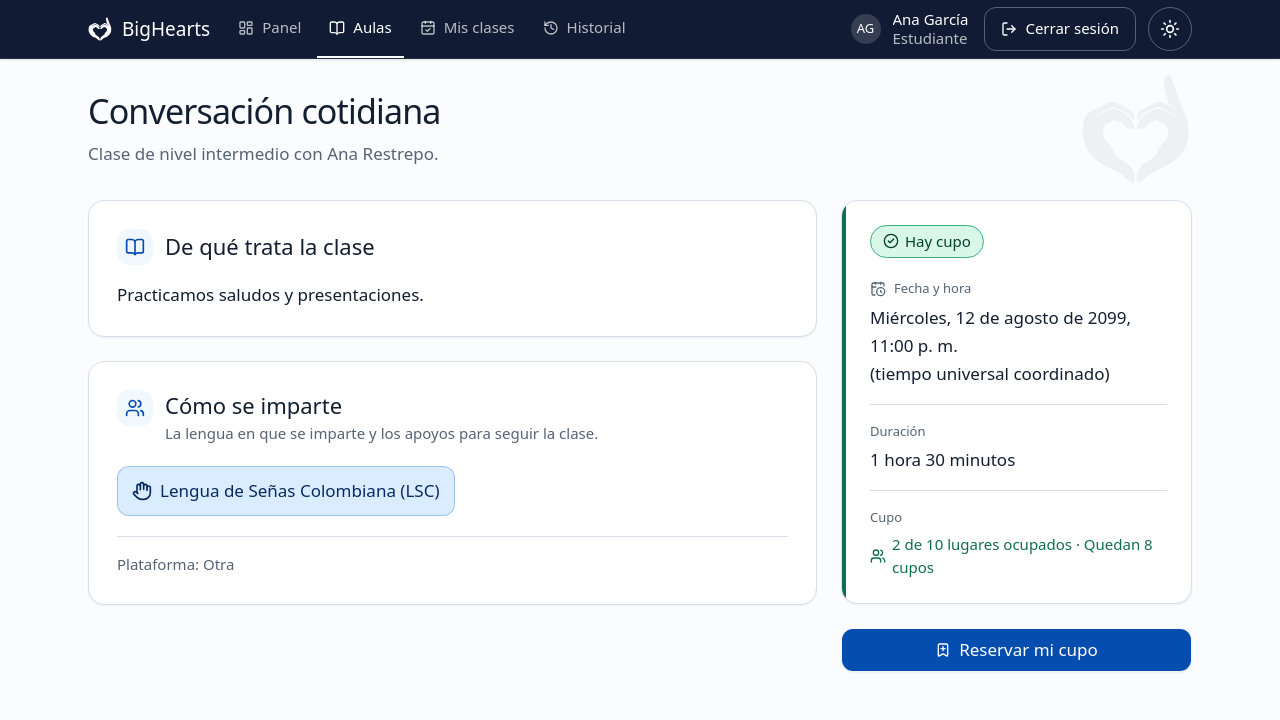
it: AulaDetallePage — reservar un cupo (HU-301) › al confirmar, re-consulta el aula y el estado pasa a reservada
This screenshot has width=1280, height=720.
Step 1. Click the button "Reservar mi cupo" → (1016, 650), box top-left (841, 628), bottom-right (1192, 672)
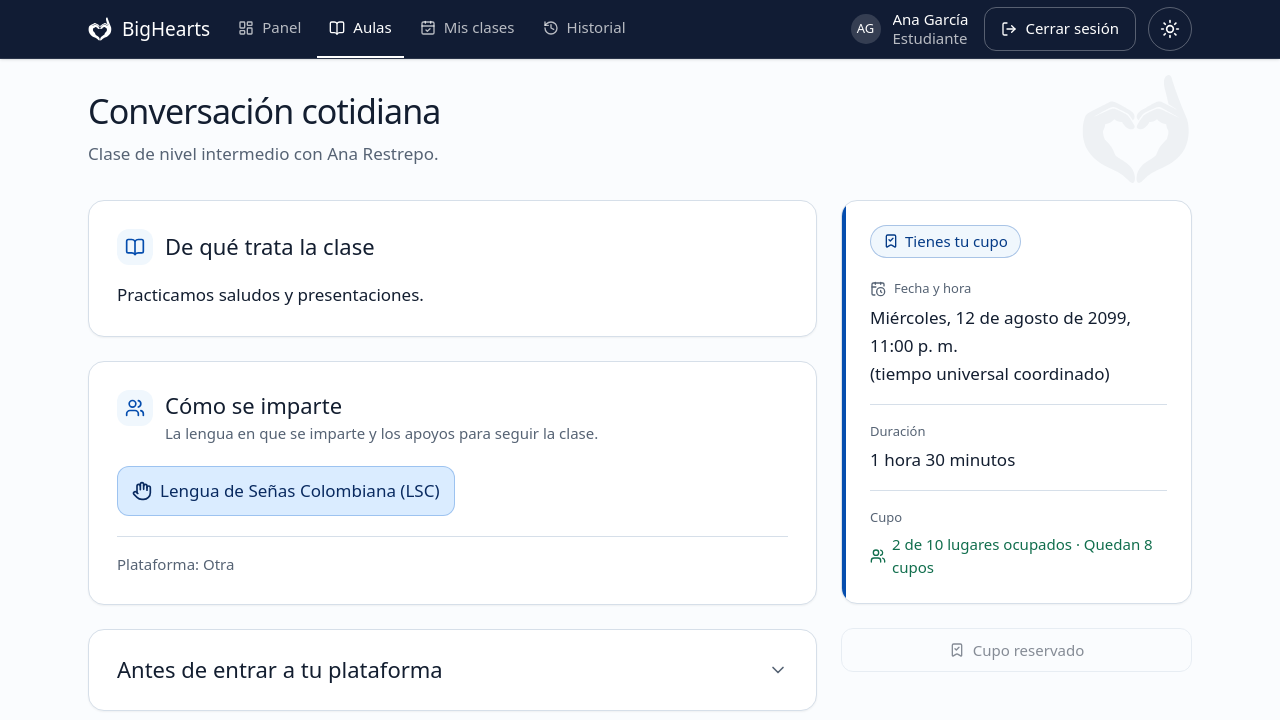
Expected: the text "Tienes tu cupo" is shown, top-left (870, 225), bottom-right (1021, 258)
Expected: the button "Cupo reservado" is disabled, top-left (841, 628), bottom-right (1192, 672)
Expected: the button "Reservar mi cupo" is gone
